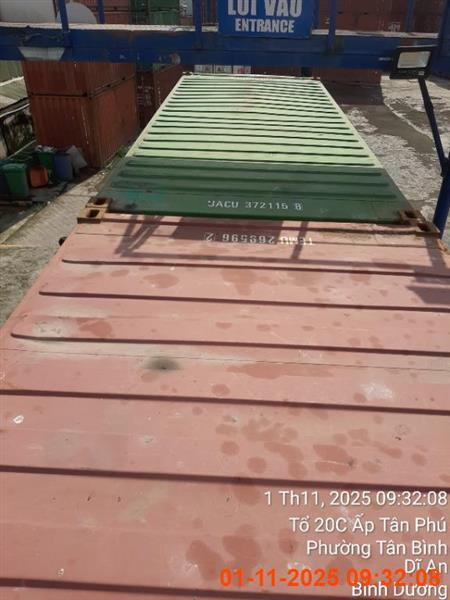broken: (93, 70, 417, 224)
